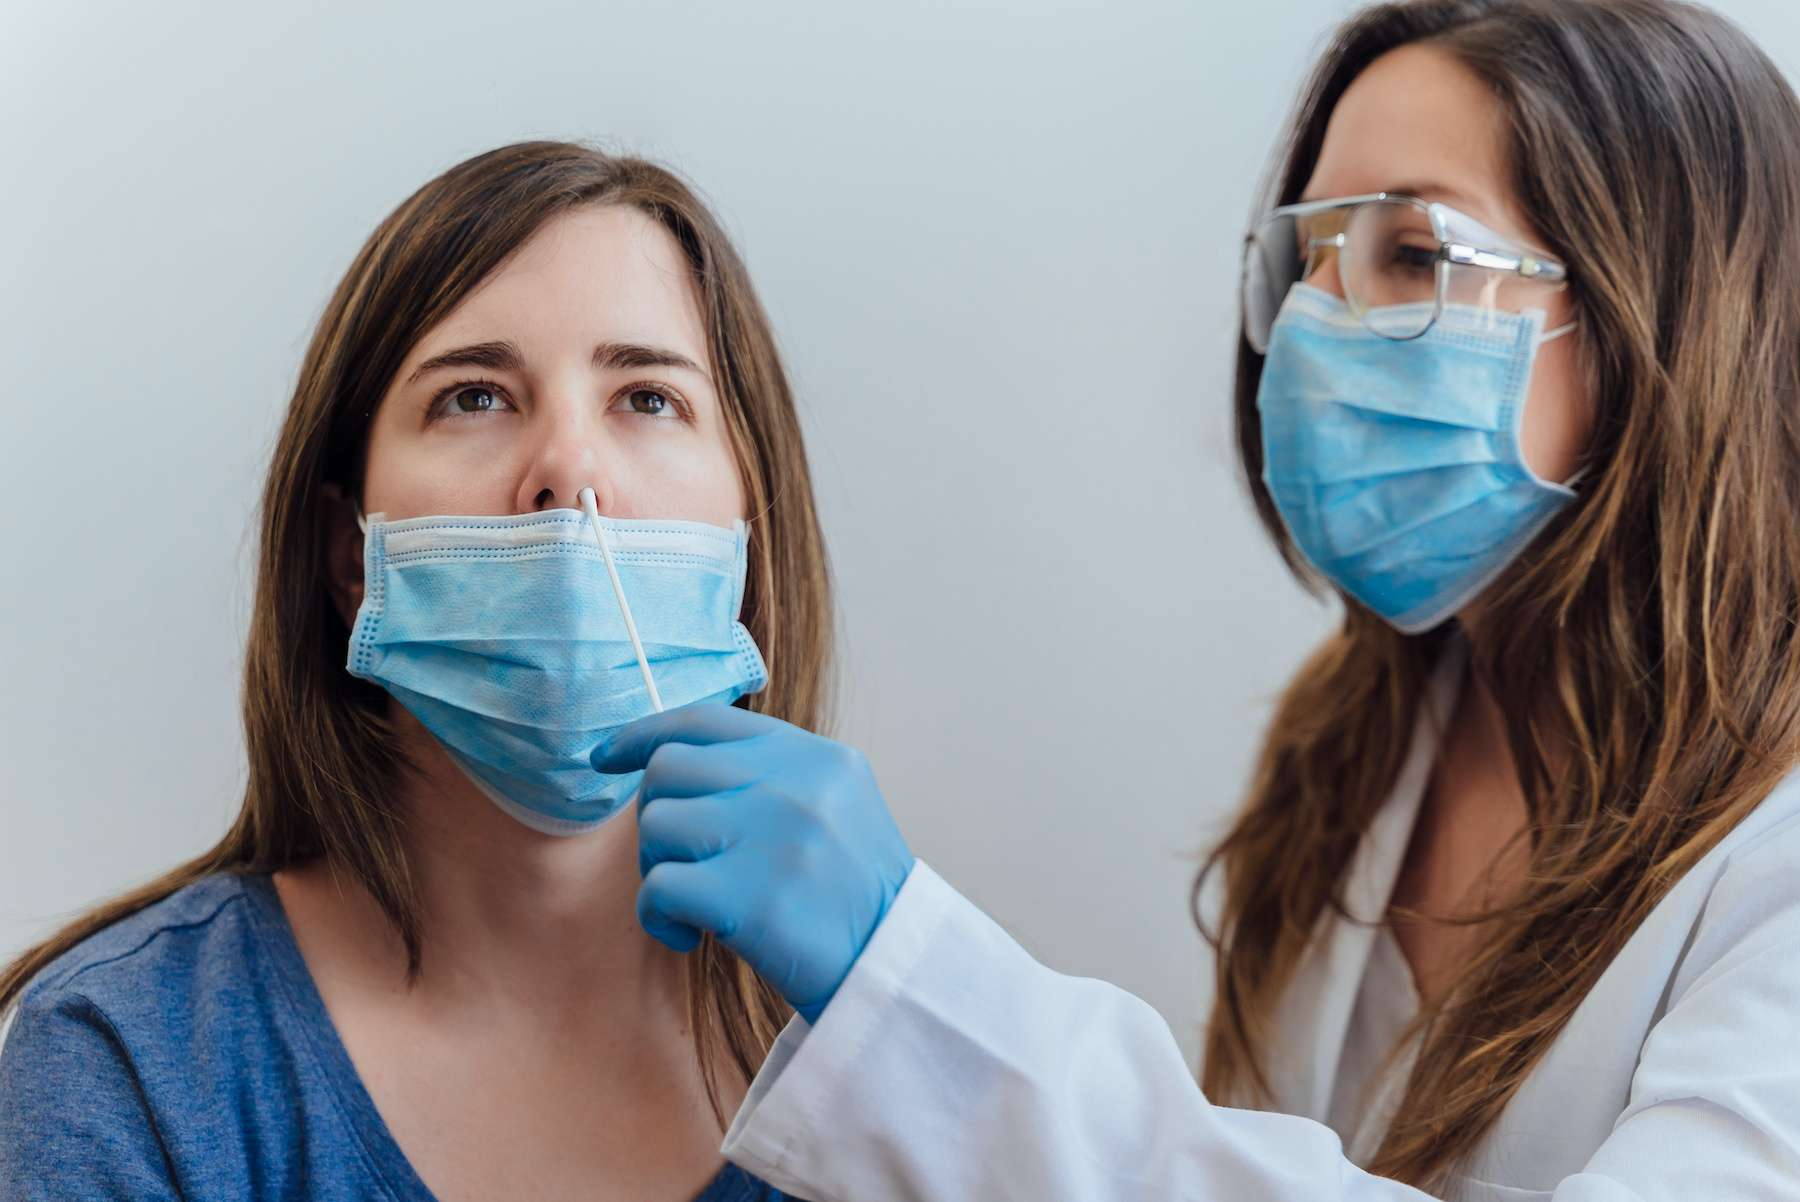with_incorrect_mask: (402, 294, 698, 710)
with_mask: (1299, 136, 1544, 582)
